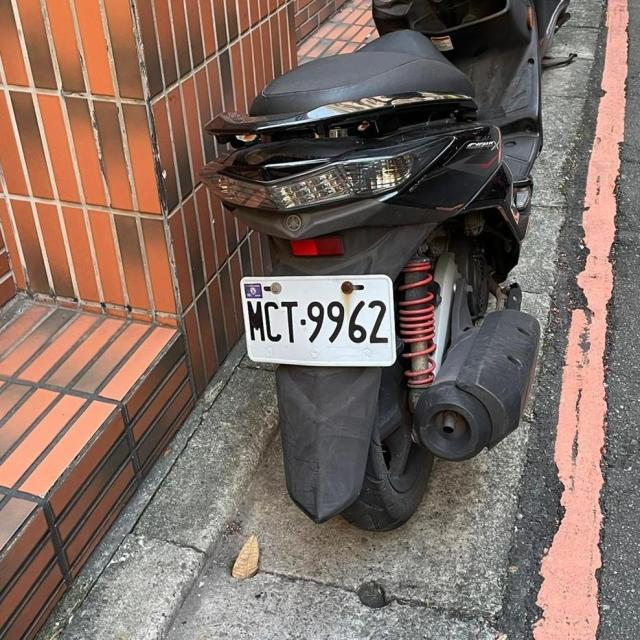W: (238, 269, 399, 370)
